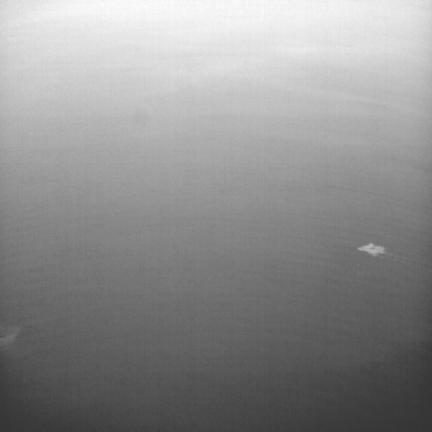flukeprints: (358, 243, 385, 256)
